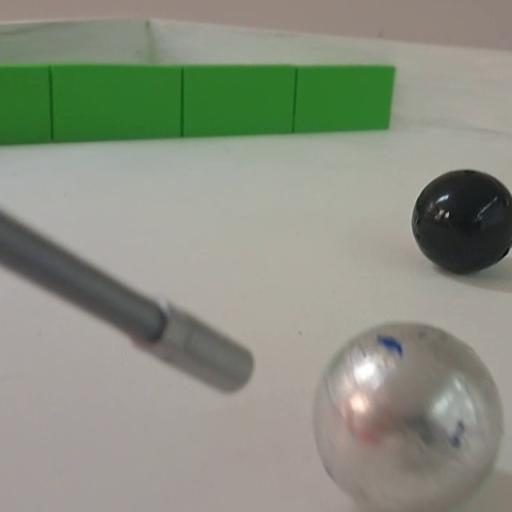alive: (311, 321, 506, 504)
dead: (410, 170, 509, 274)
